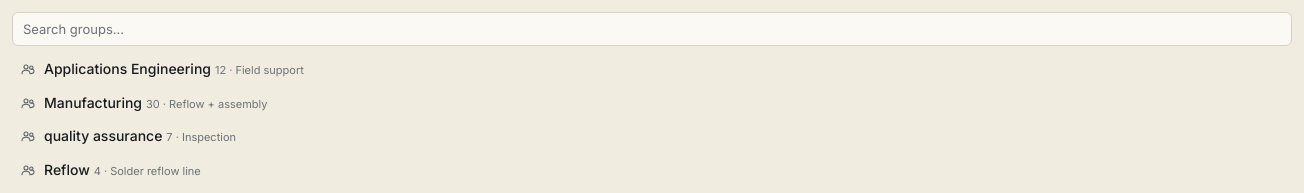
GroupPicker › says so when nothing matches, rather than showing an empty box
The width and height of the screenshot is (1304, 193).
Type "zzz" into the search field at (652, 29), box [12, 12, 1292, 46]
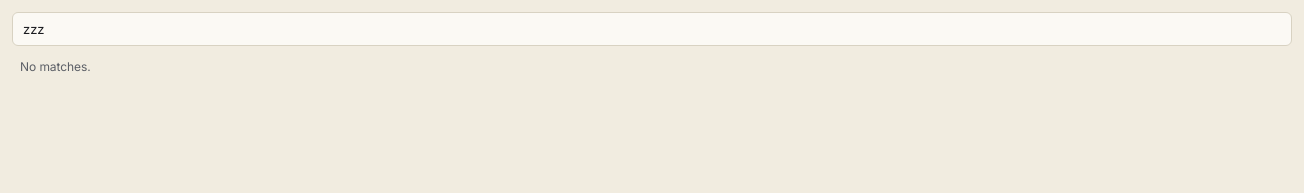
Check: the list item "No matches." is shown, box [20, 59, 91, 74]
